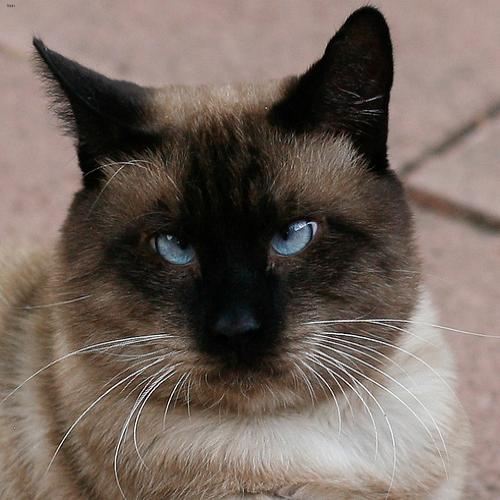siamese: (14, 1, 461, 423)
